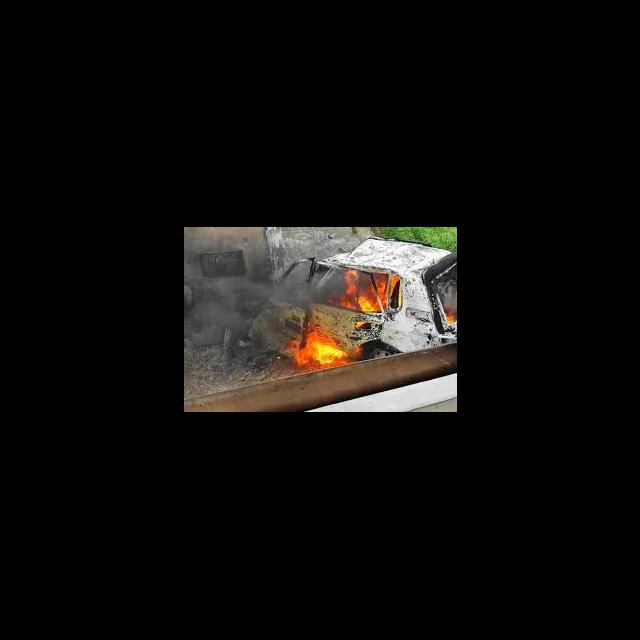Fire: (332, 268, 402, 316), (288, 334, 357, 366), (444, 309, 456, 325)
